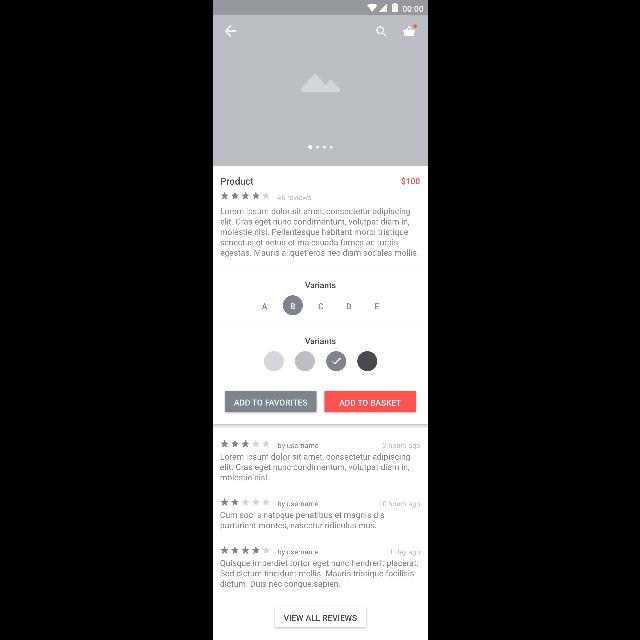icon: (357, 351, 377, 371), (294, 351, 314, 371), (263, 351, 283, 371), (282, 295, 302, 315), (326, 351, 346, 371), (220, 440, 270, 448), (220, 498, 270, 506), (220, 546, 270, 554), (220, 192, 268, 200), (402, 24, 416, 36), (224, 25, 236, 37), (376, 27, 386, 37)
image: (213, 15, 427, 166)
pageindicator: (308, 145, 332, 149)
text: (220, 208, 418, 258), (220, 560, 418, 588), (219, 454, 409, 481), (220, 512, 384, 530), (276, 442, 318, 450), (276, 548, 318, 556), (378, 500, 419, 508), (382, 442, 420, 450), (220, 177, 252, 185), (276, 501, 318, 507), (389, 548, 419, 556), (304, 282, 336, 288), (304, 338, 336, 344), (401, 178, 419, 186), (277, 196, 311, 200), (261, 303, 267, 309), (318, 303, 322, 309), (346, 303, 350, 309), (375, 303, 379, 309)
textbutton: (324, 391, 416, 412), (224, 392, 316, 412), (274, 606, 366, 626)
uppertaskbar: (212, 1, 428, 15)
